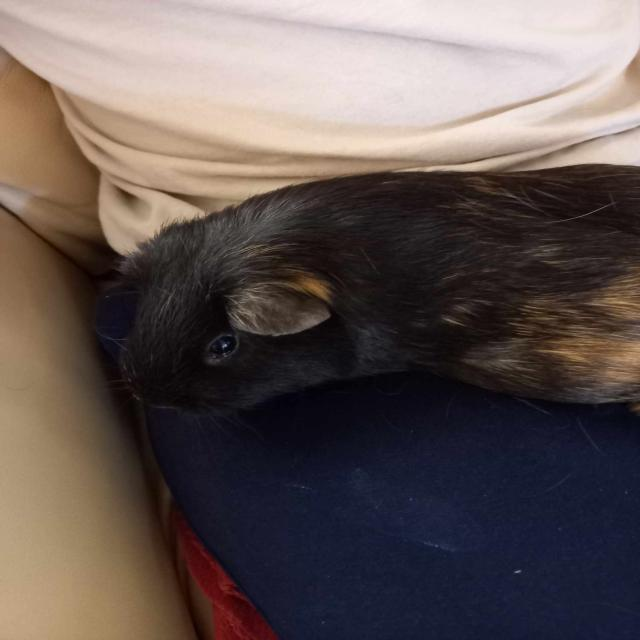guinea pig: (108, 162, 640, 422)
